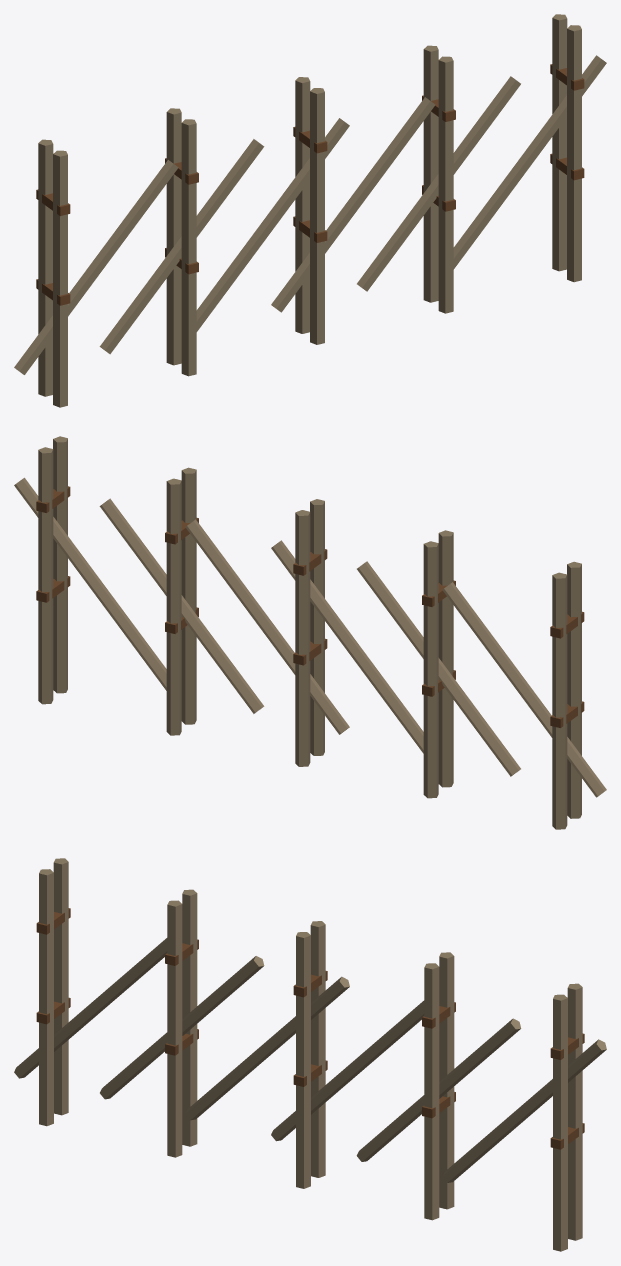
Rendered from gardsgard.glb.
3 views of the same model, one above another, from view 1: azimuth 30°, elevation 25°; view 2: azimuth 150°, elevation 25°; view 3: azimuth 330°, elevation 25° (orthographic).
Parts seen in each view (by area): view 1: gardsgard; view 2: gardsgard; view 3: gardsgard.
Boxes of the visible parts, x1,y1,x2,y2 form: gardsgard: [14, 14, 606, 407]; gardsgard: [14, 436, 606, 829]; gardsgard: [14, 858, 606, 1251].
Size of the model in its own units: 3.45 by 1.4 by 0.24.
